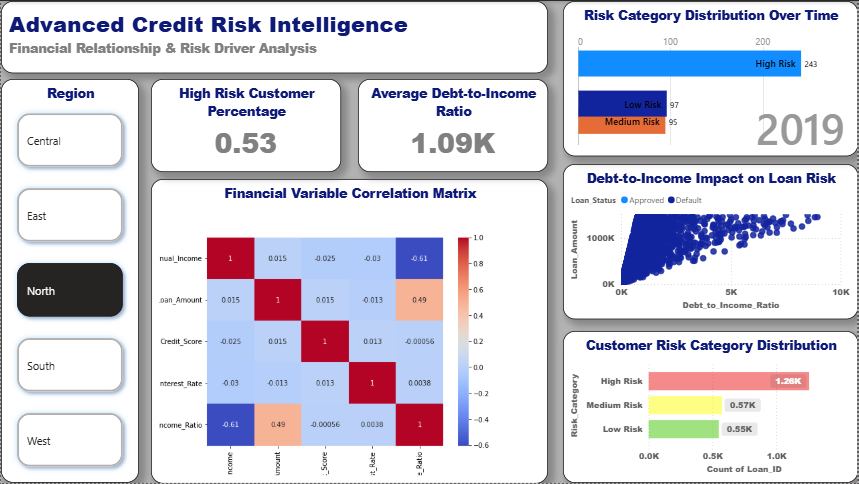

The dashboard page shown, as its layout file describes it:
{"tool":"powerbi","page":{"name":"Page 3","canvas":[1280,720],"ordinal":2},"visuals":[{"type":"clusteredBarChart","title":"Customer Risk Category Distribution","fields":{"Y":["CountNonNull(banking_project credit_risk_data.Loan_ID)"],"Category":["banking_project credit_risk_data.Risk_Category"]},"box":[839.5,492.9,440.7,227.1],"z":0},{"type":"scatterChart","title":"Debt-to-Income Impact on Loan Risk","fields":{"X":["banking_project credit_risk_data.Debt_to_Income_Ratio"],"Y":["banking_project credit_risk_data.Loan_Amount"],"Series":["banking_project credit_risk_data.Loan_Status"]},"box":[839.5,243.5,440.7,231.5],"z":1000},{"type":"pythonVisual","title":"Financial Variable Correlation Matrix","fields":{"Values":["banking_project credit_risk_data.Annual_Income","banking_project credit_risk_data.Loan_Amount","banking_project credit_risk_data.Credit_Score","banking_project credit_risk_data.Interest_Rate","banking_project credit_risk_data.Debt_to_Income_Ratio"]},"box":[223.4,265.2,593,454.8],"z":2000},{"type":"wishyoulizationbarchartrace","title":"Risk Category Distribution Over Time","fields":{"year":["banking_project credit_risk_data.Application_Date.Variation.Date Hierarchy.Year"],"name":["banking_project credit_risk_data.Risk_Category"],"value":["CountNonNull(banking_project credit_risk_data.Loan_ID)"]},"box":[839.5,0,440.7,231.5],"z":3000},{"type":"textbox","box":[0,0,817.1,107.6],"z":4000},{"type":"advancedSlicerVisual","fields":{"Values":["banking_project credit_risk_data.Region"]},"box":[0,116.5,206.1,603.5],"z":5000},{"type":"cardVisual","title":"High Risk Customer Percentage","fields":{"Data":["banking_project credit_risk_data.High Risk %"]},"box":[224.1,116.5,283.8,138.9],"z":6000},{"type":"cardVisual","title":"Average Debt-to-Income Ratio","fields":{"Data":["Avg(banking_project credit_risk_data.Debt_to_Income_Ratio)"]},"box":[533.3,116.5,283.8,138.9],"z":7000}]}

Visuals, with their boxes in screenshot pixels (x1, y1, x2, y2), scaled from the page's 1280x720 canvas onto the 859x484 screenshot:
"Customer Risk Category Distribution" clusteredBarChart: [x1=563, y1=331, x2=858, y2=483]
"Debt-to-Income Impact on Loan Risk" scatterChart: [x1=563, y1=164, x2=858, y2=319]
"Financial Variable Correlation Matrix" pythonVisual: [x1=150, y1=178, x2=548, y2=483]
"Risk Category Distribution Over Time" wishyoulizationbarchartrace: [x1=563, y1=0, x2=858, y2=156]
textbox: [x1=0, y1=0, x2=548, y2=72]
advancedSlicerVisual - banking_project credit_risk_data.Region: [x1=0, y1=78, x2=138, y2=483]
"High Risk Customer Percentage" cardVisual: [x1=150, y1=78, x2=341, y2=172]
"Average Debt-to-Income Ratio" cardVisual: [x1=358, y1=78, x2=548, y2=172]
